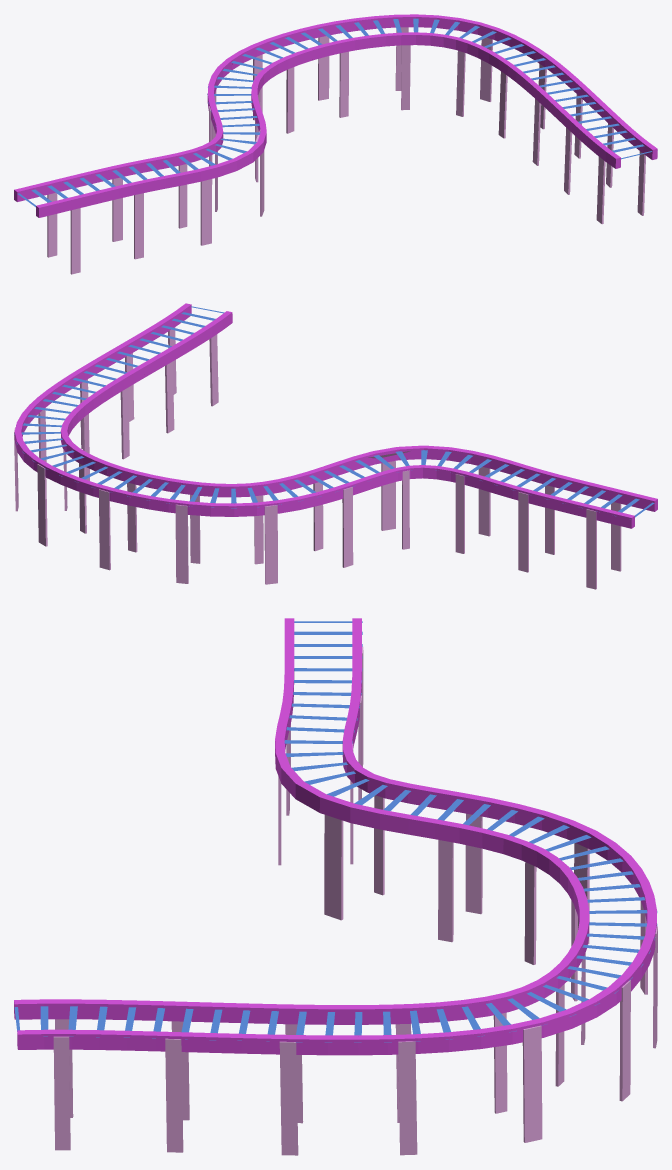
Rendered from Ubahn oben.fbx.
3 views of the same model, one above another, from view 1: azimuth 30°, elevation 25°; view 2: azimuth 150°, elevation 25°; view 3: azimuth 270°, elevation 25° (orthographic). The views are drawn at different scales.
Visible parts, largest first — view 1: Cube; view 2: Cube; view 3: Cube.
Boxes of the visible parts, bbox=[...] form: Cube: bbox=[14, 14, 657, 274]; Cube: bbox=[14, 303, 657, 589]; Cube: bbox=[14, 618, 657, 1155].
Size of the model in its own units: 1717 by 250 by 1131.
